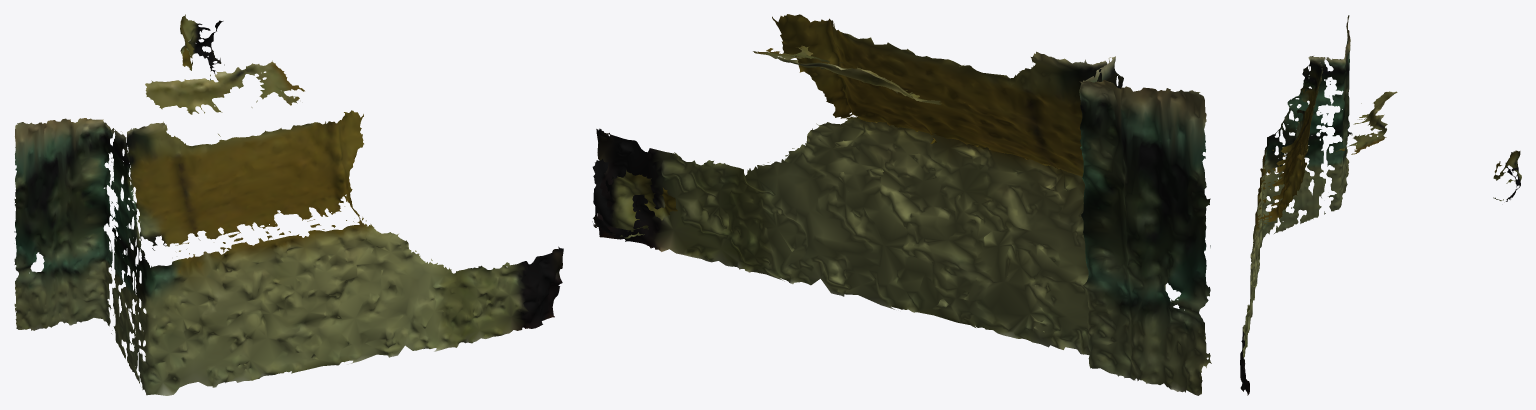
Rendered from color_model_f001_20260211_234455.obj.
3 renders of one model, left to right at view 1: azimuth 30°, elevation 25°; view 2: azimuth 150°, elevation 25°; view 3: azimuth 270°, elevation 25°, orthographic. The views are drawn at different scales.
Size of the model in its own units: 2.16 by 1.13 by 1.4.
